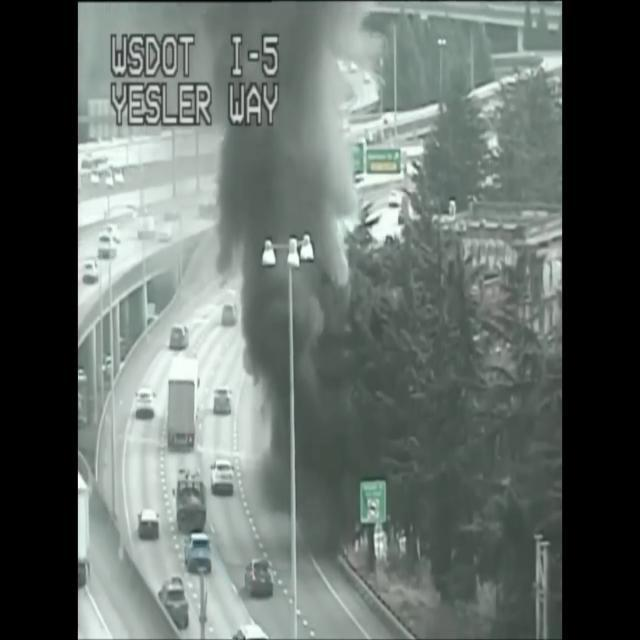Smoke: (202, 1, 384, 542)
